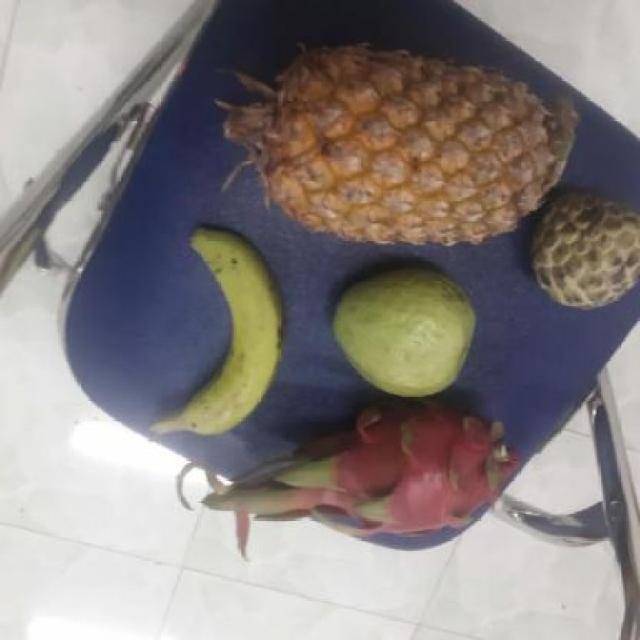banana: (162, 234, 280, 435)
dragon fruit: (313, 400, 502, 545)
guava: (325, 269, 477, 393)
pineapple: (221, 46, 565, 245)
sugar apple: (521, 189, 640, 309)
